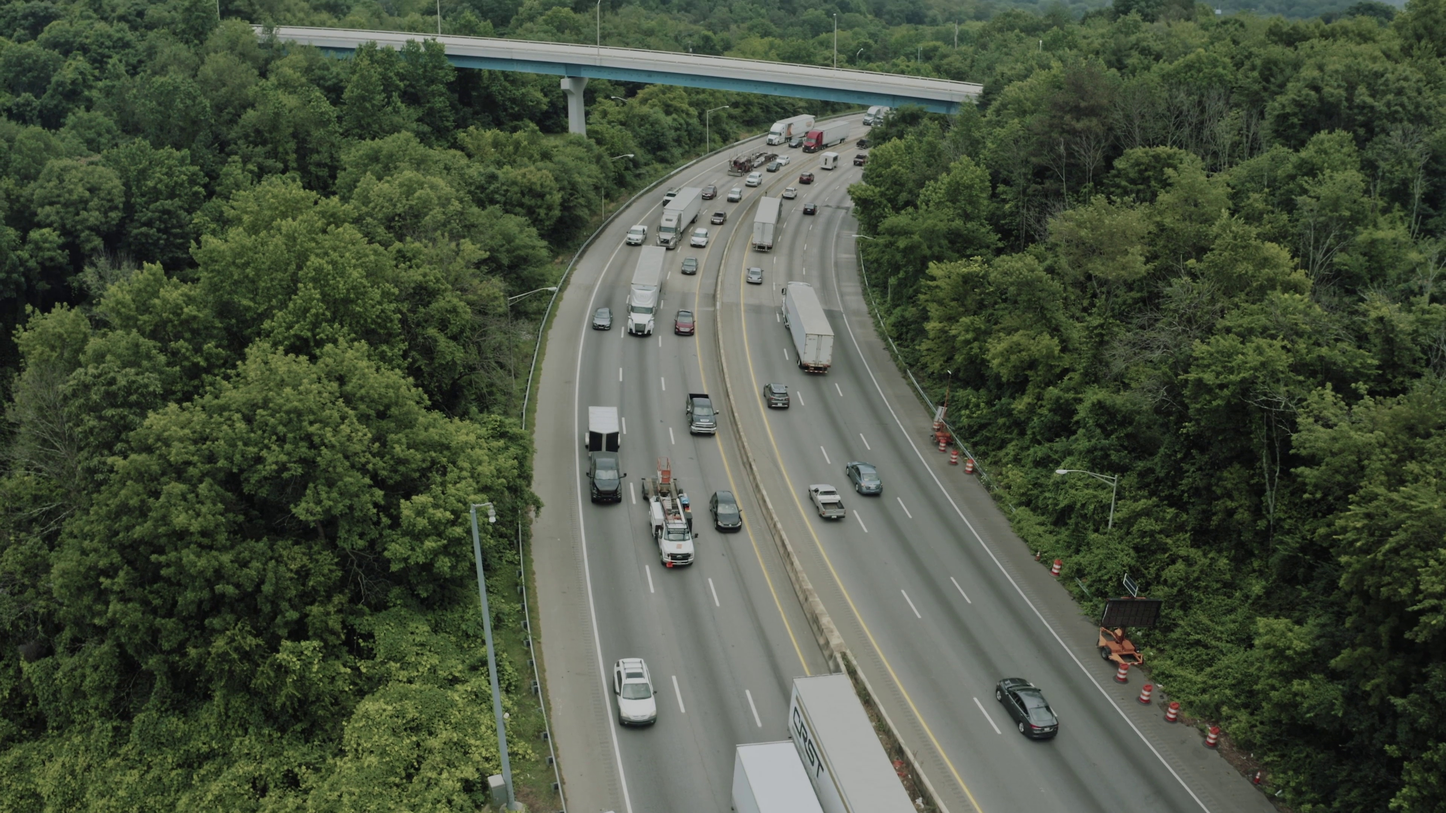Vehicle: (638, 465, 698, 568), (995, 677, 1059, 740), (613, 658, 657, 727), (586, 451, 626, 504), (624, 286, 663, 339), (808, 484, 850, 530), (751, 196, 783, 253), (709, 490, 742, 533), (685, 393, 719, 434), (653, 210, 685, 251), (846, 461, 883, 495), (778, 278, 812, 314), (763, 385, 790, 409), (727, 154, 754, 177), (674, 309, 696, 336), (862, 106, 890, 126), (766, 122, 788, 147), (592, 307, 613, 330), (802, 129, 822, 153), (626, 225, 648, 246), (819, 151, 840, 170), (662, 187, 681, 207), (690, 228, 709, 248), (681, 257, 698, 275), (746, 267, 763, 284), (745, 171, 762, 187), (727, 187, 743, 203), (702, 185, 717, 200), (711, 211, 727, 225), (782, 187, 798, 199), (853, 154, 868, 166), (799, 172, 814, 184), (803, 203, 817, 215), (776, 155, 791, 166), (788, 138, 804, 148), (855, 139, 869, 150), (766, 161, 780, 172)
